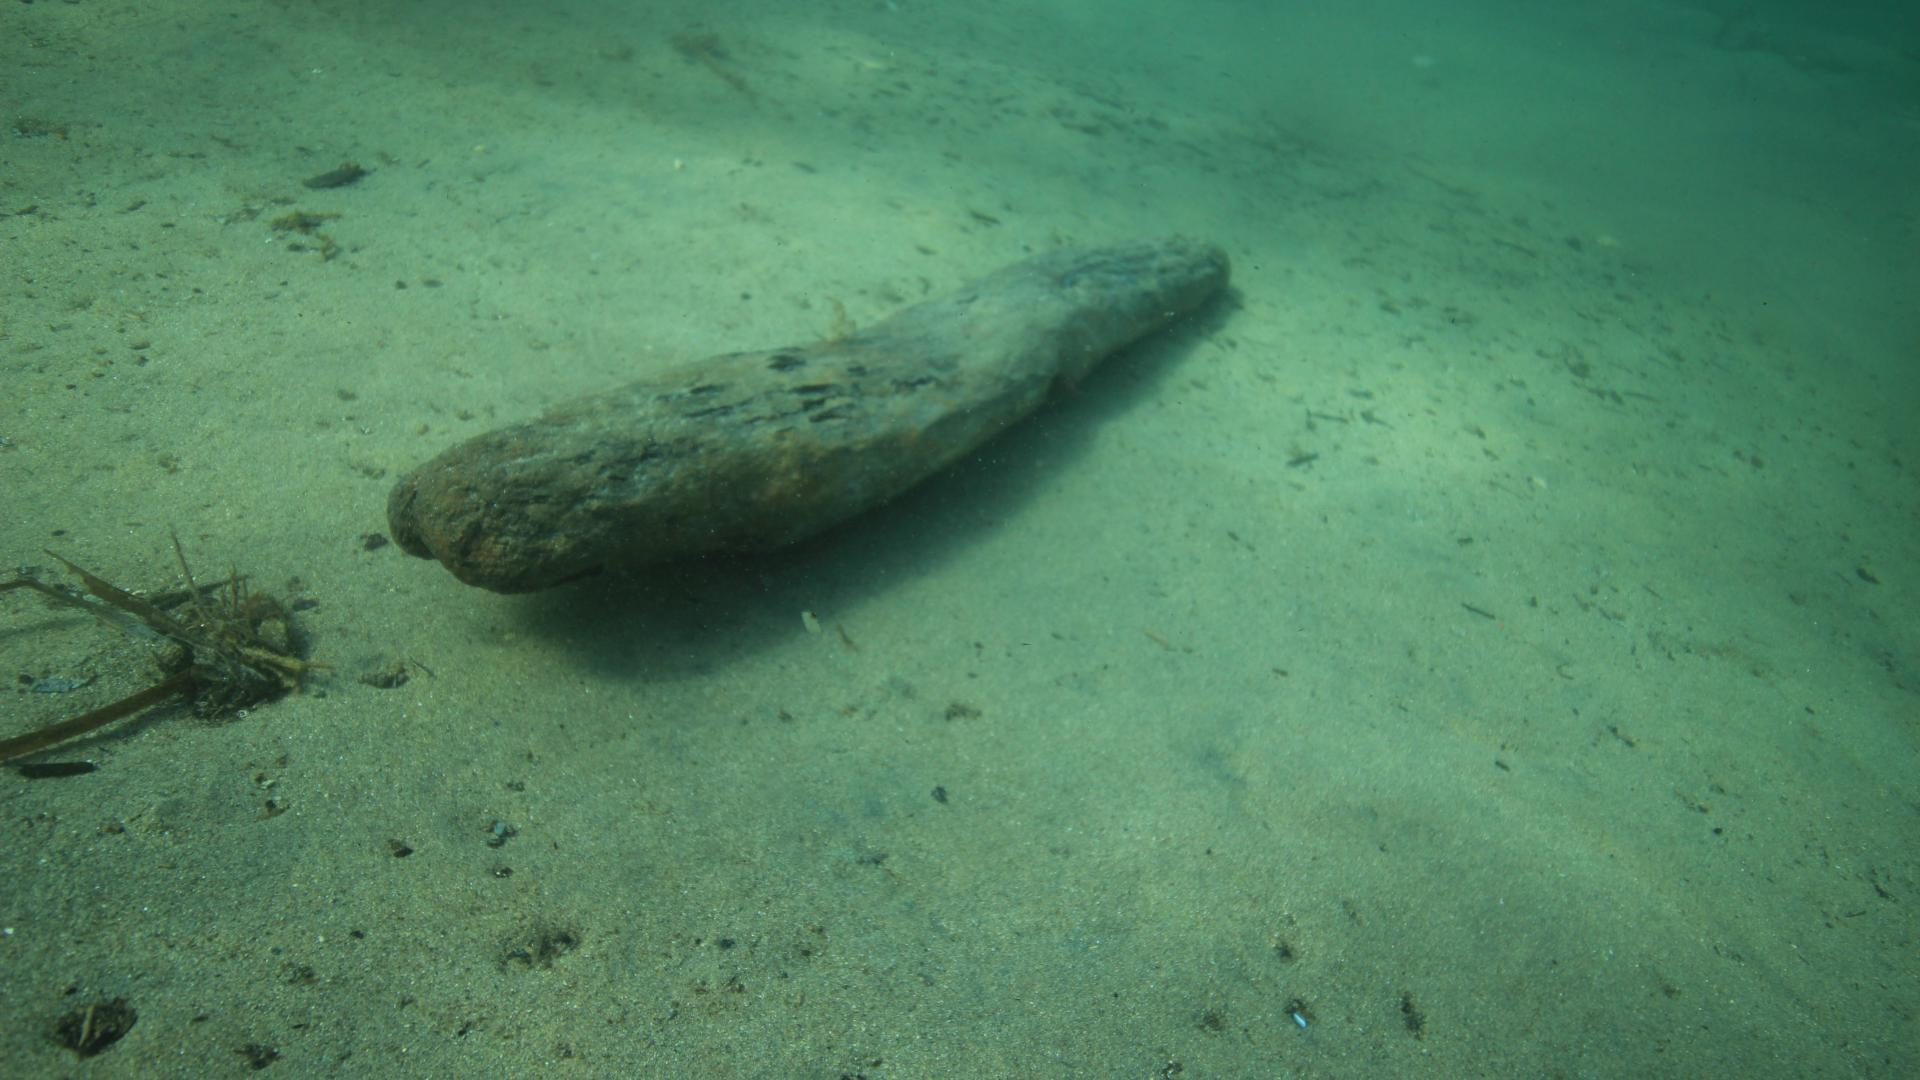wood: (385, 233, 1232, 591)
